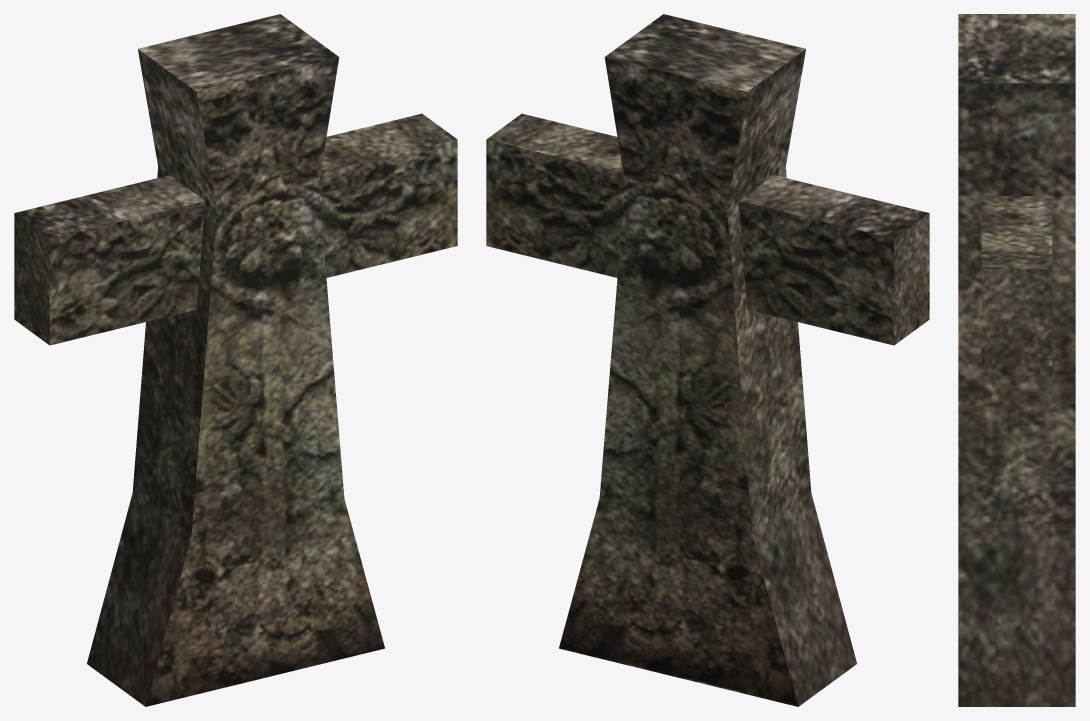
Rendered from tombstone_sm_09.fbx.
The picture shows the model from 3 angles, left to right: view 1: azimuth 30°, elevation 25°; view 2: azimuth 150°, elevation 25°; view 3: azimuth 270°, elevation 25°; orthographic projection.
Visible parts, largest first — view 1: mesh_0, mesh_1; view 2: mesh_0, mesh_1; view 3: mesh_0, mesh_1.
Part boxes in pixels (x1,y1,x2,y2): mesh_0: (87, 14, 384, 706); mesh_1: (14, 113, 457, 345); mesh_0: (559, 14, 856, 706); mesh_1: (486, 113, 929, 345); mesh_0: (958, 14, 1075, 706); mesh_1: (981, 196, 1052, 375).
Size of the model in its own units: 80 by 113 by 20.
Materials: 1 (1 with a texture image).
